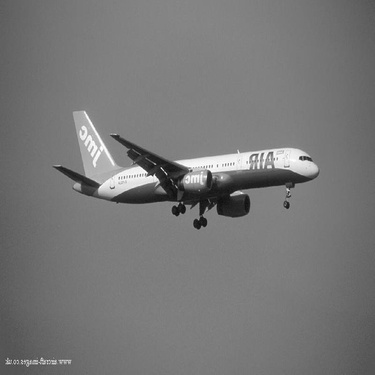airplane: (43, 101, 325, 232)
